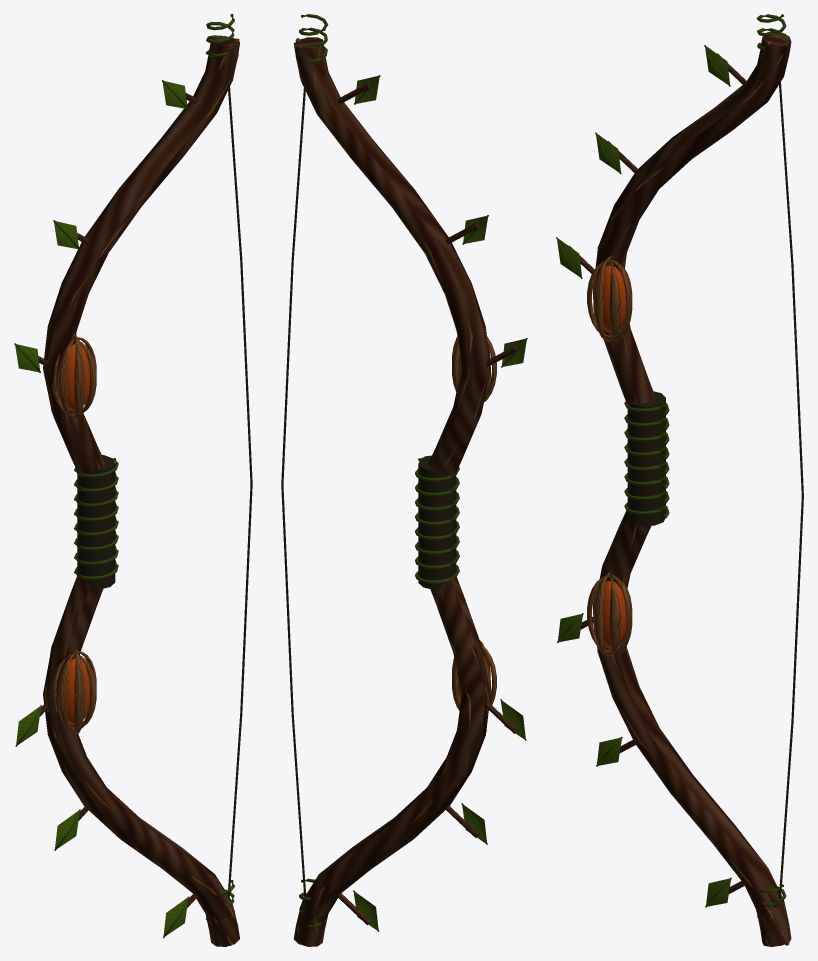
File: stowed.glb
3 renders of one model, left to right at view 1: azimuth 30°, elevation 25°; view 2: azimuth 150°, elevation 25°; view 3: azimuth 330°, elevation 25°, orthographic.
Visible parts, largest first — view 1: Living_bow_limb_carried_snapshot, Living_bow_limb.001_carried_snapshot, Woven_center_grip_carried_snapshot, Bowstring_carried_snapshot, Pointed_split_seed_husk.012_carried_snapshot, Pointed_split_seed_husk.005_carried_snapshot, Amber_sap_heart_carried_snapshot, Amber_sap_heart.001_carried_snapshot, Pointed_split_seed_husk.011_carried_snapshot, Pointed_split_seed_husk.004_carried_snapshot; view 2: Living_bow_limb_carried_snapshot, Living_bow_limb.001_carried_snapshot, Woven_center_grip_carried_snapshot, Bowstring_carried_snapshot; view 3: Living_bow_limb.001_carried_snapshot, Living_bow_limb_carried_snapshot, Woven_center_grip_carried_snapshot, Bowstring_carried_snapshot, Amber_sap_heart_carried_snapshot, Amber_sap_heart.001_carried_snapshot, Pointed_split_seed_husk.012_carried_snapshot, Pointed_split_seed_husk.006_carried_snapshot, Pointed_split_seed_husk.005_carried_snapshot, Pointed_split_seed_husk.013_carried_snapshot.
Part boxes in pixels (x1,y1,x2,y2): Living_bow_limb_carried_snapshot: (43,36,239,477); Living_bow_limb.001_carried_snapshot: (43,572,239,946); Woven_center_grip_carried_snapshot: (77,455,115,589); Bowstring_carried_snapshot: (227,87,252,896); Pointed_split_seed_husk.012_carried_snapshot: (74,649,85,734); Pointed_split_seed_husk.005_carried_snapshot: (74,335,85,420); Amber_sap_heart_carried_snapshot: (67,344,89,410); Amber_sap_heart.001_carried_snapshot: (67,658,89,724); Pointed_split_seed_husk.011_carried_snapshot: (57,652,75,730); Pointed_split_seed_husk.004_carried_snapshot: (57,338,75,416); Living_bow_limb_carried_snapshot: (293,37,490,477); Living_bow_limb.001_carried_snapshot: (293,572,490,946); Woven_center_grip_carried_snapshot: (418,455,456,589); Bowstring_carried_snapshot: (281,42,308,896); Living_bow_limb.001_carried_snapshot: (597,511,791,946); Living_bow_limb_carried_snapshot: (595,31,791,403); Woven_center_grip_carried_snapshot: (627,391,665,525); Bowstring_carried_snapshot: (776,38,803,899); Amber_sap_heart_carried_snapshot: (603,265,625,332); Amber_sap_heart.001_carried_snapshot: (603,581,625,648); Pointed_split_seed_husk.012_carried_snapshot: (593,572,610,657); Pointed_split_seed_husk.006_carried_snapshot: (609,262,621,337); Pointed_split_seed_husk.005_carried_snapshot: (593,256,610,342); Pointed_split_seed_husk.013_carried_snapshot: (609,577,621,652).
Size of the model in its own units: 0.4685 by 1.71 by 0.095.
Materials: 6 (6 with a texture image).
